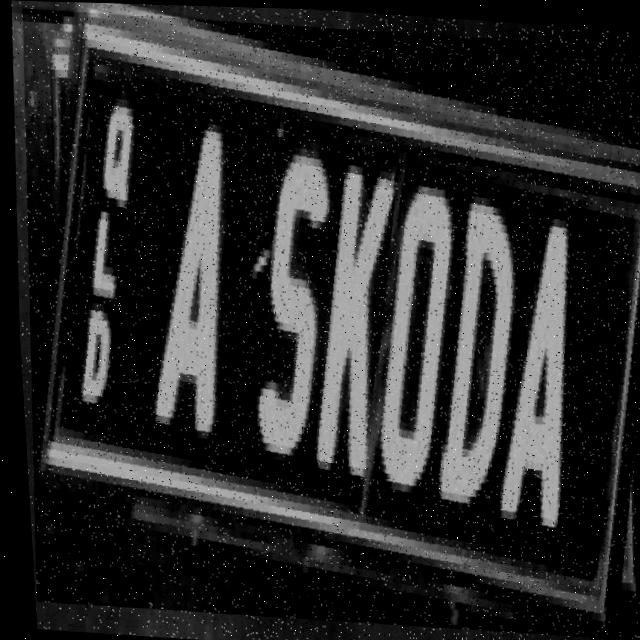LicensePlate: (1, 7, 640, 638)
